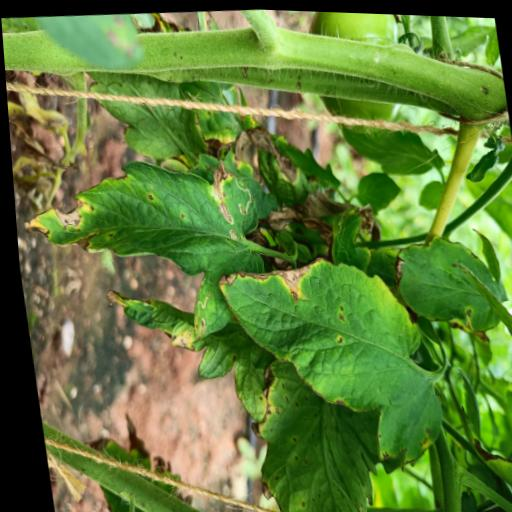Early Blight: (8, 141, 282, 353), (207, 242, 446, 485), (99, 276, 269, 434), (231, 352, 370, 512), (381, 222, 511, 341)
Leaf_Miner: (188, 288, 218, 335), (228, 172, 258, 217)
